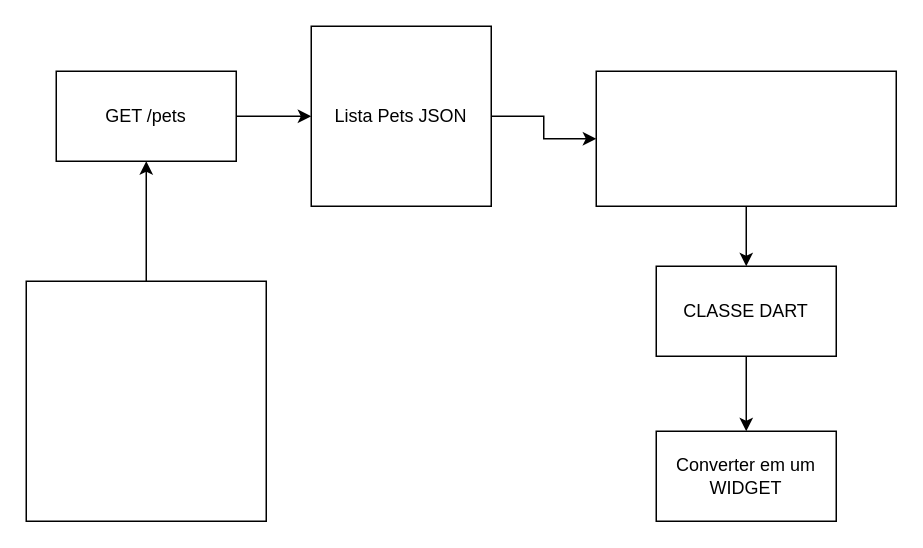
The diagram is 923 pixels wide and 548 high, and some of its shapes have lost their labels. Here are the shapes that lost their labels. From the top down, the centre of each, then its label:
At [745,138]: "PARSE DART: https://jsontodart.com/".
At [145,400]: "DB".
